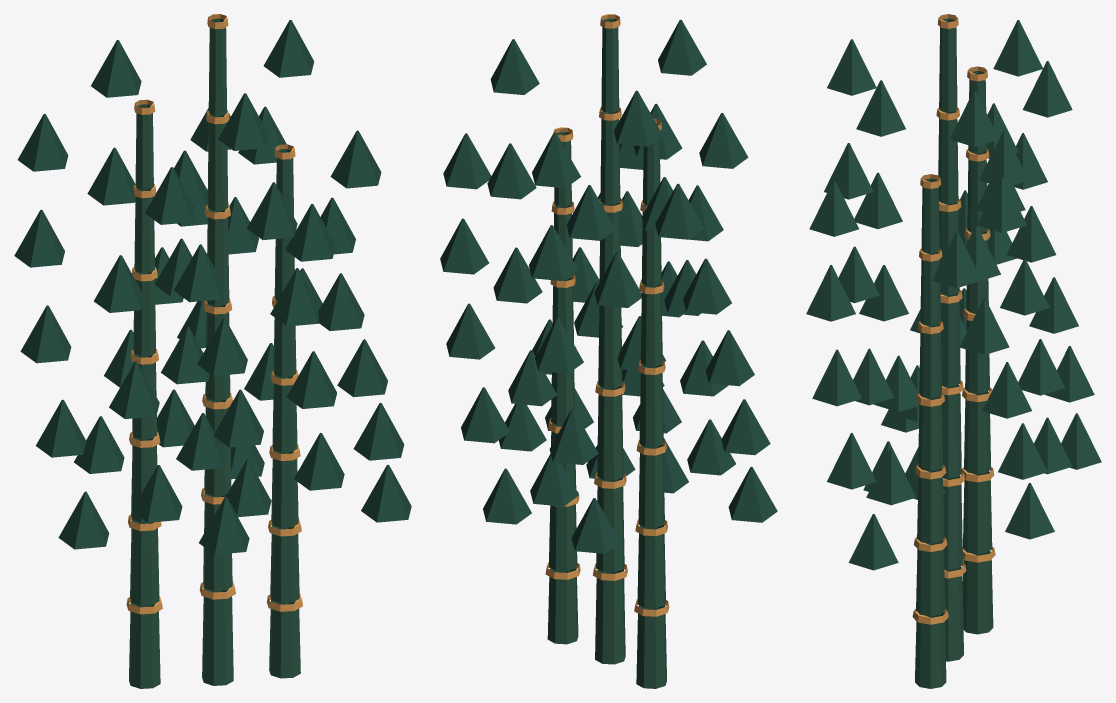
The model's file is moonfall_bamboo_tall.obj.
3 views of the same model, side by side, from view 1: azimuth 30°, elevation 25°; view 2: azimuth 150°, elevation 25°; view 3: azimuth 270°, elevation 25° (orthographic). The views are drawn at different scales.
Visible parts, largest first — view 1: moonfall_bamboo_tall; view 2: moonfall_bamboo_tall; view 3: moonfall_bamboo_tall.
Part boxes in pixels (x1,y1,x2,y2): moonfall_bamboo_tall: (14,14,411,688); moonfall_bamboo_tall: (440,14,777,688); moonfall_bamboo_tall: (806,14,1101,688).
Bounding box in the file's own units: 6.34 × 11.99 × 5.05.
